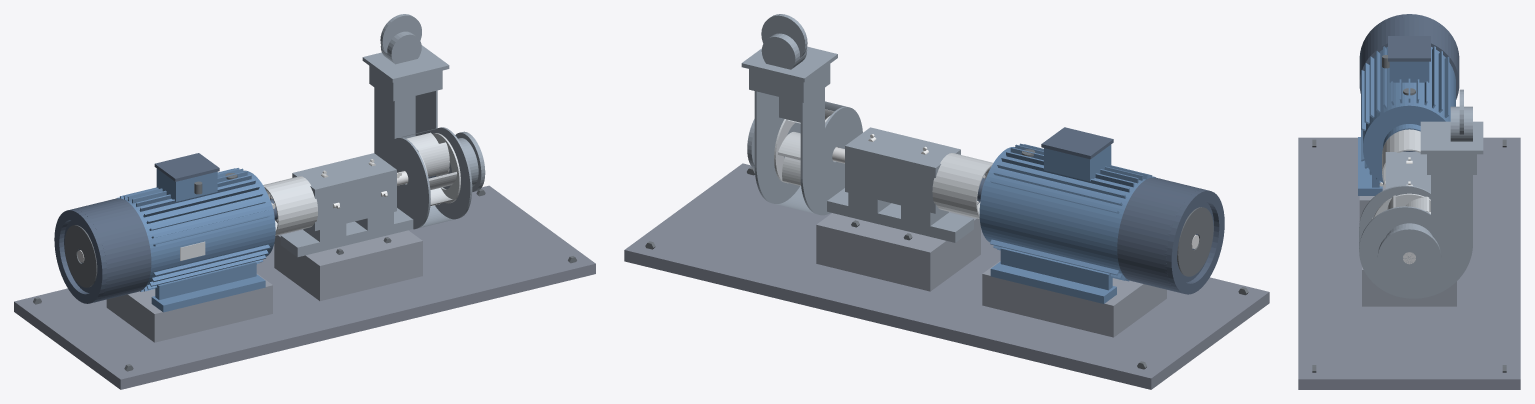
The model's file is pump.glb.
3 renders of one model, left to right at view 1: azimuth 30°, elevation 25°; view 2: azimuth 150°, elevation 25°; view 3: azimuth 270°, elevation 25°, orthographic. The views are drawn at different scales.
Visible parts, largest first — view 1: PART_001, CASING_MOTORBODY_006, PART_073, CASING_FINS_009, CASING_FRAME_052, PART_022, CASING_COWL_010, CASING_VOLUTE_075, CASING_VOLUTE_076, CASING_GUARD_050, CASING_COWL_011, PART_021 (+17 smaller); view 2: PART_001, CASING_MOTORBODY_006, PART_073, CASING_FRAME_052, PART_022, CASING_COWL_010, CASING_VOLUTE_075, CASING_FINS_009, CASING_VOLUTE_076, CASING_GUARD_050, CASING_COWL_011, PART_019 (+15 smaller); view 3: PART_001, CASING_VOLUTE_076, CASING_SUCTION_093, CASING_FINS_009, CASING_COWL_010, CASING_ENDBELL_007, CASING_MOTORBODY_006, CASING_VOLUTE_081, CASING_FRAME_052, PART_073, PART_014, CASING_VOLUTE_080 (+10 smaller).
Boxes of the visible parts, x1,y1,x2,y2 form: PART_001: (14, 185, 595, 389); CASING_MOTORBODY_006: (125, 174, 274, 286); PART_073: (274, 229, 422, 300); CASING_FINS_009: (117, 168, 270, 291); CASING_FRAME_052: (292, 153, 396, 230); PART_022: (106, 273, 272, 342); CASING_COWL_010: (64, 198, 151, 301); CASING_VOLUTE_075: (374, 87, 430, 229); CASING_VOLUTE_076: (415, 90, 472, 219); CASING_GUARD_050: (263, 176, 317, 235); CASING_COWL_011: (54, 209, 108, 303); PART_021: (155, 261, 256, 299); PART_001: (624, 163, 1269, 389); CASING_MOTORBODY_006: (980, 147, 1145, 275); PART_073: (816, 212, 980, 291); CASING_FRAME_052: (845, 127, 960, 213); PART_022: (982, 261, 1166, 337); CASING_COWL_010: (1117, 177, 1213, 292); CASING_VOLUTE_075: (800, 88, 862, 215); CASING_FINS_009: (990, 143, 1155, 281); CASING_VOLUTE_076: (754, 91, 799, 203); CASING_GUARD_050: (932, 153, 993, 218); CASING_COWL_011: (1164, 189, 1224, 294); PART_019: (1000, 247, 1112, 290); PART_001: (1298, 137, 1520, 389); CASING_VOLUTE_076: (1359, 175, 1472, 298); CASING_SUCTION_093: (1377, 227, 1441, 286); CASING_FINS_009: (1361, 46, 1449, 184); CASING_COWL_010: (1359, 16, 1459, 99); CASING_ENDBELL_007: (1363, 100, 1449, 182); CASING_MOTORBODY_006: (1363, 47, 1455, 142); CASING_VOLUTE_081: (1420, 121, 1483, 154); CASING_FRAME_052: (1385, 152, 1430, 192); PART_073: (1362, 267, 1456, 306); PART_014: (1388, 36, 1430, 61); CASING_VOLUTE_080: (1427, 154, 1476, 174).
Bounding box in the file's own units: 3.6 × 1.66 × 1.4.
